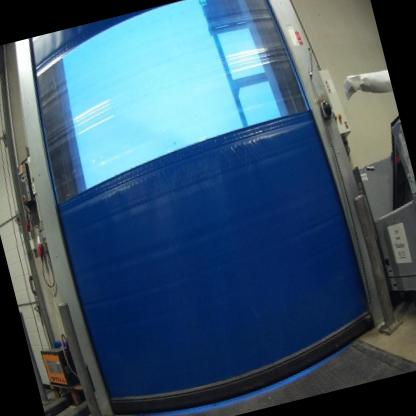pallet: (45, 374, 96, 412)
